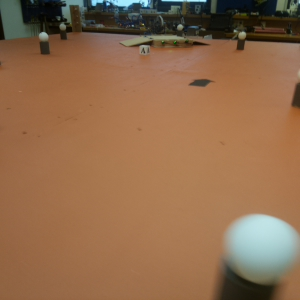obstacle: (214, 207, 300, 279), (287, 68, 300, 107), (38, 33, 50, 57), (235, 32, 249, 52), (59, 24, 69, 41)
side: (153, 39, 191, 51)
slope: (117, 36, 152, 43), (193, 37, 208, 48)
